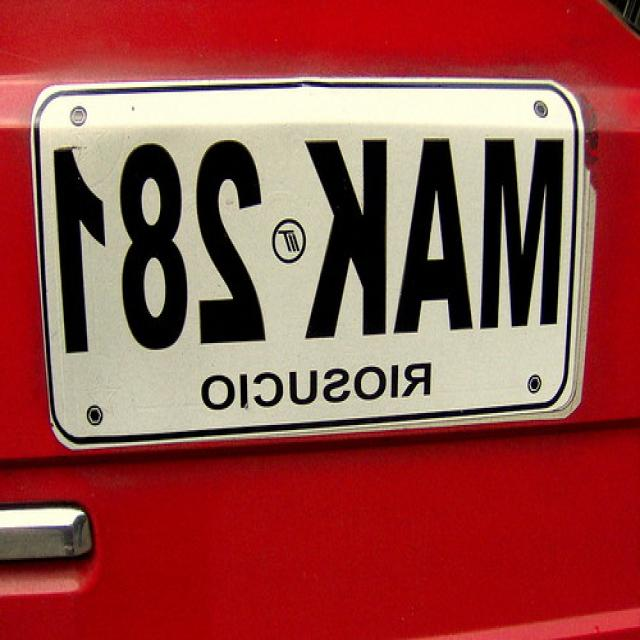placas: (42, 116, 575, 363)
